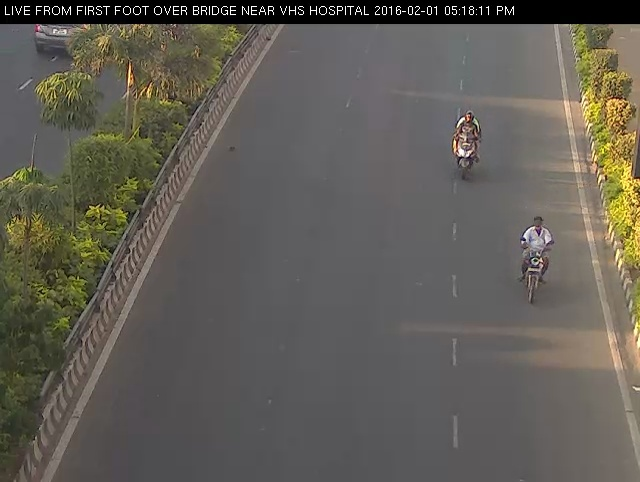Person: (514, 212, 560, 307), (447, 105, 486, 188)
